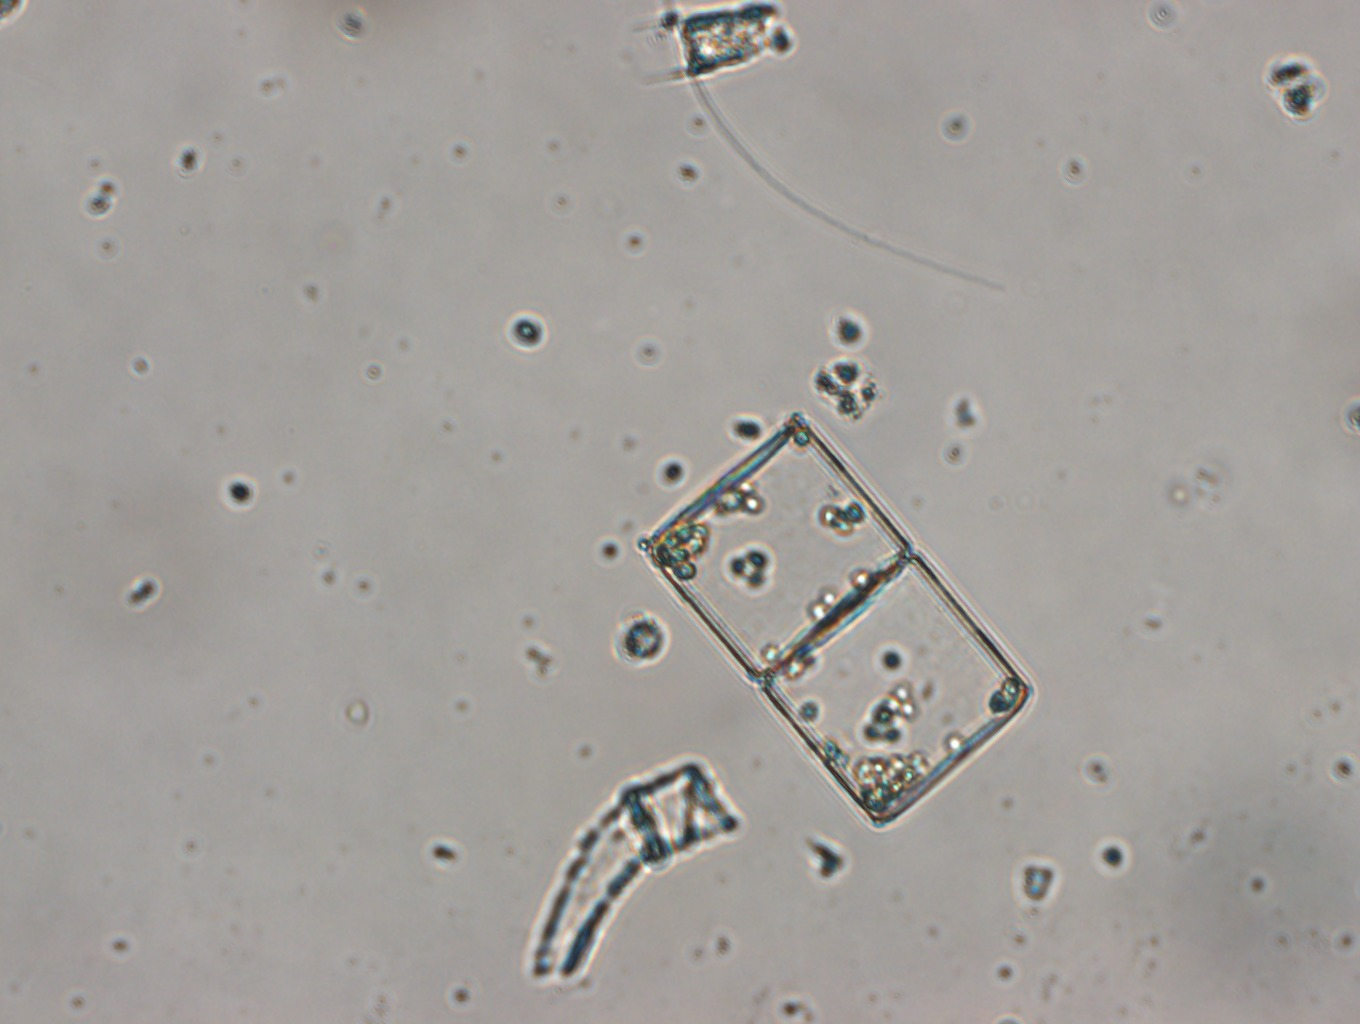guinardia flaccida: (632, 399, 1042, 840)
